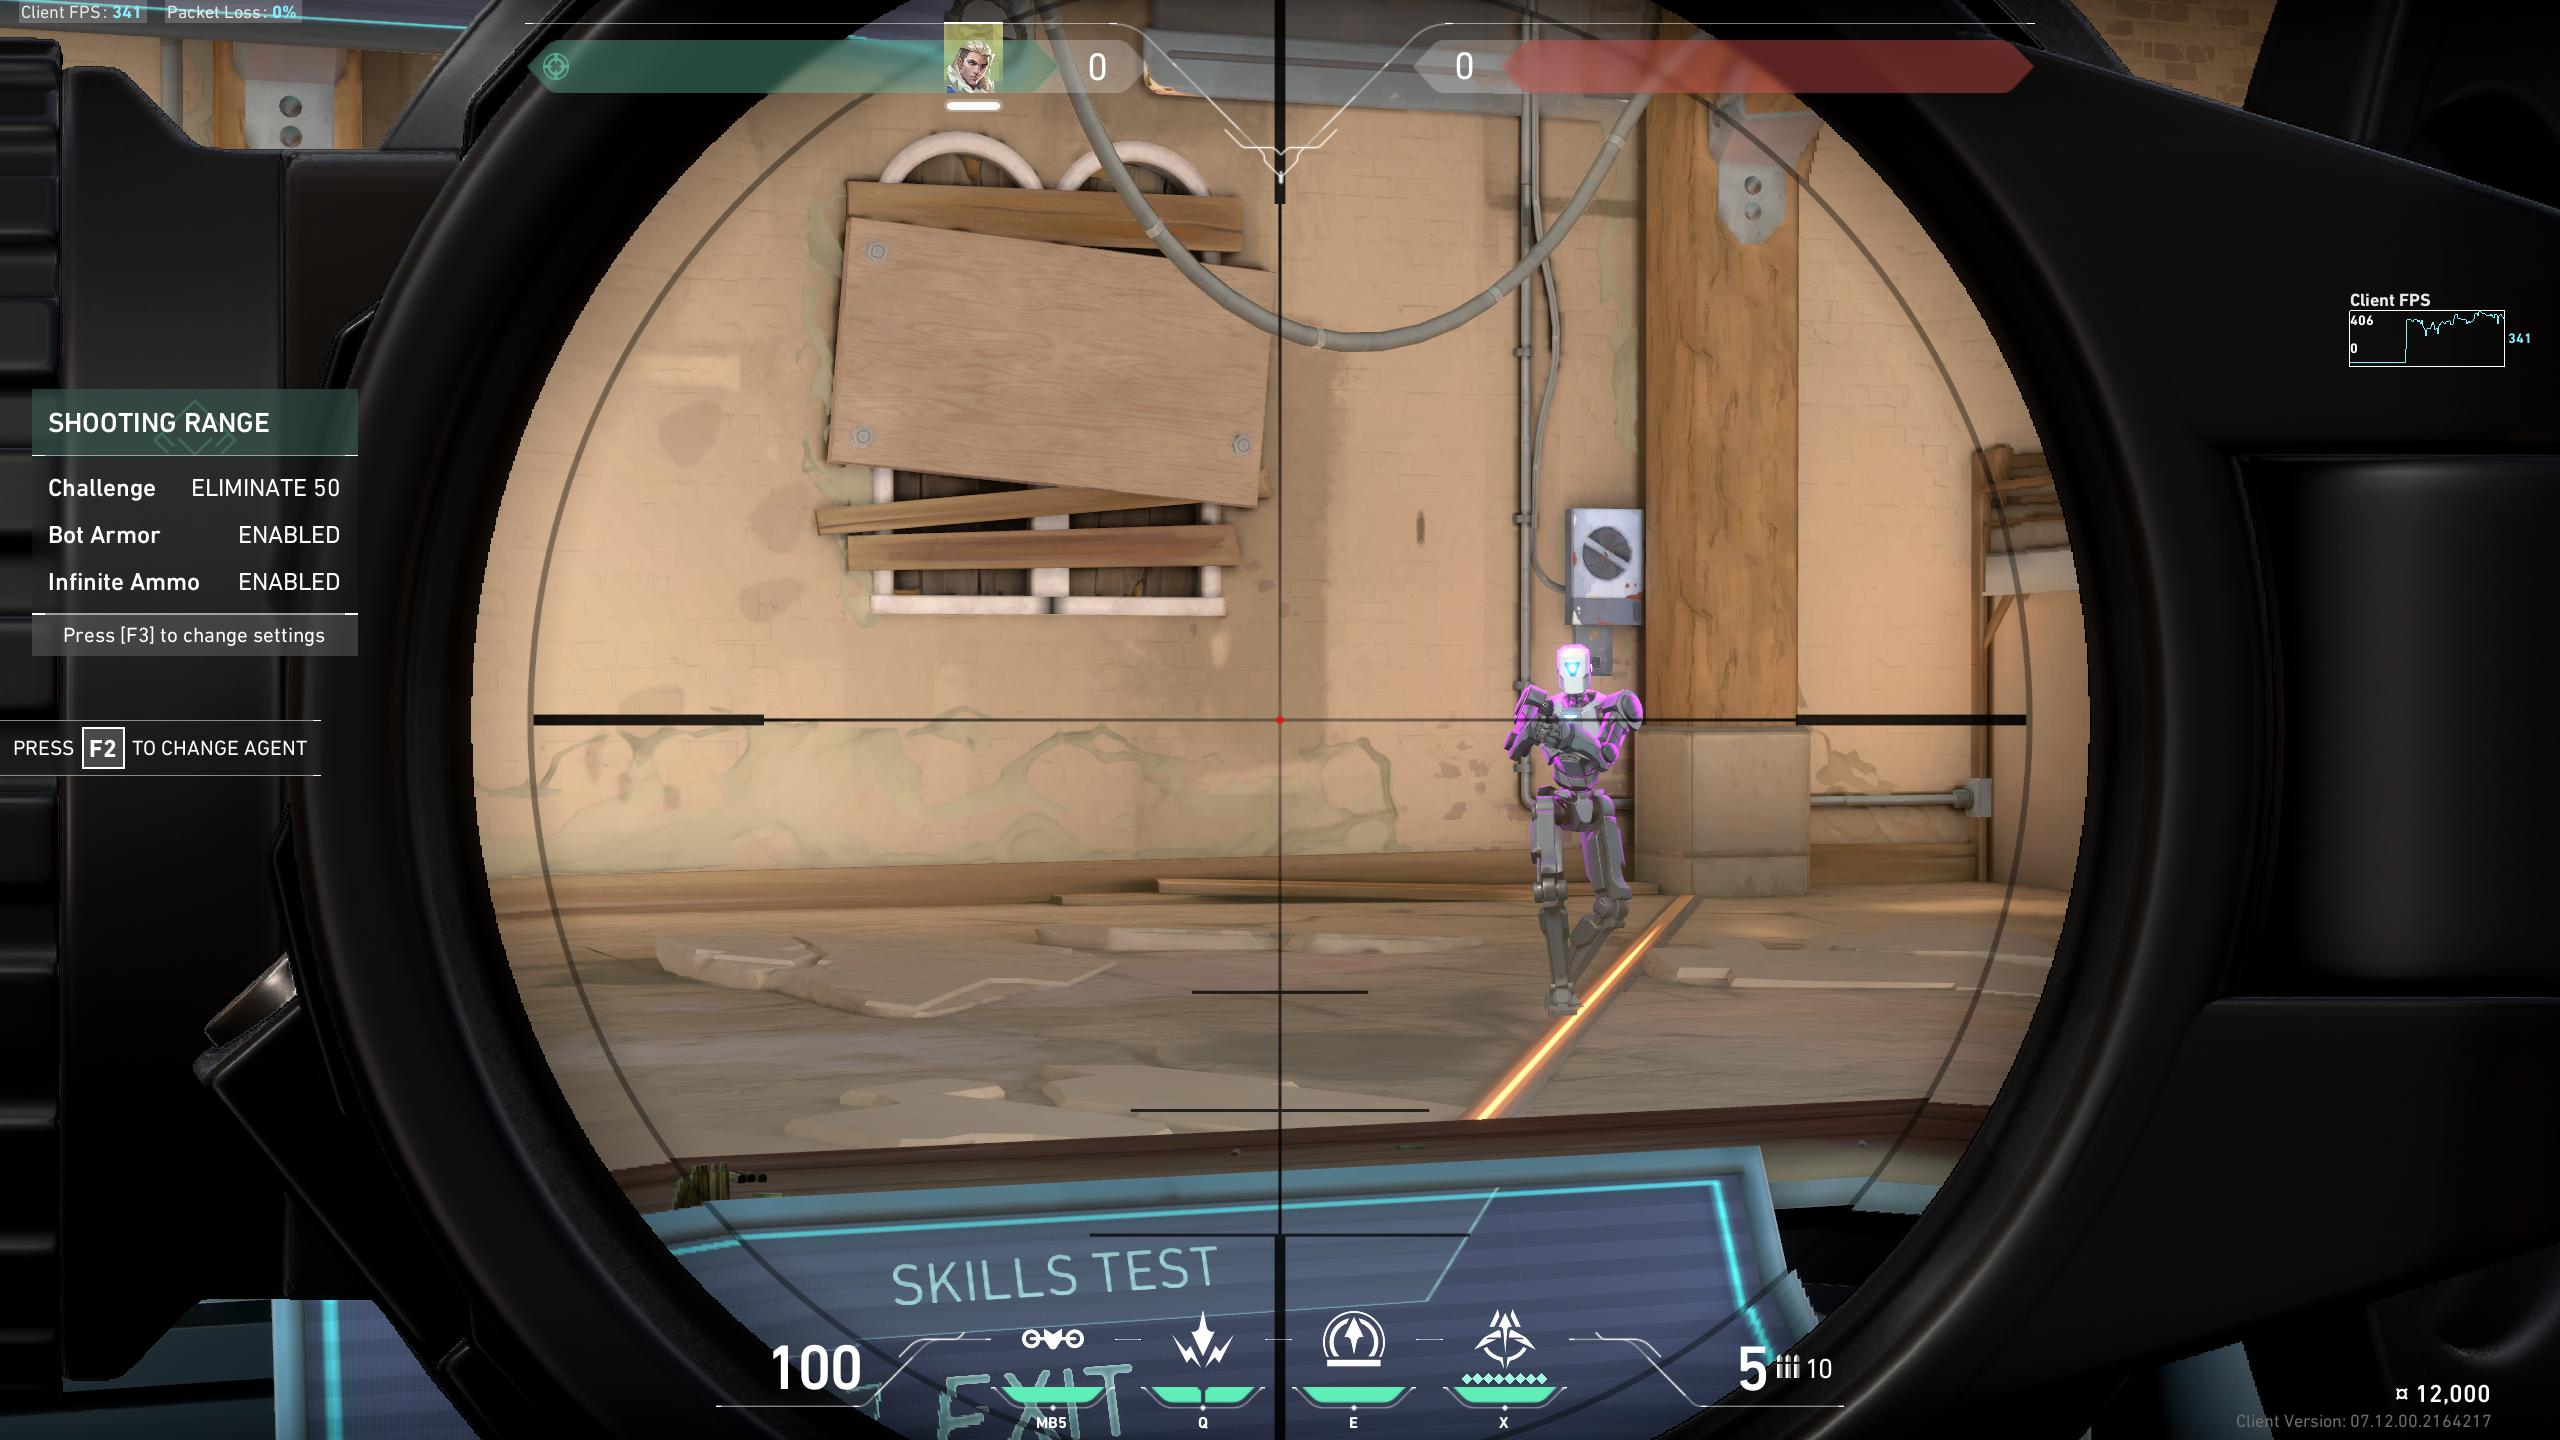enemyBody: (1519, 709, 1633, 818)
enemyHead: (1560, 652, 1591, 698)
